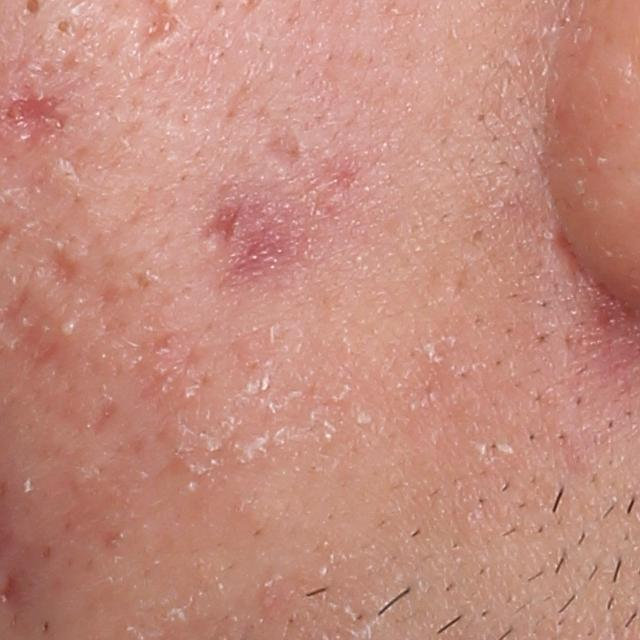atrophic_scar: (16, 302, 63, 377), (1, 91, 75, 134), (257, 116, 303, 182), (200, 195, 246, 244), (83, 396, 129, 444)
comedo: (54, 14, 75, 38)
